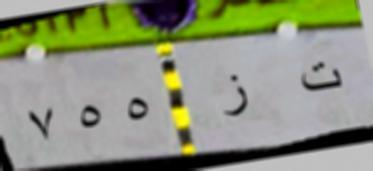5: (122, 90, 154, 138), (74, 100, 105, 136)
7: (23, 98, 62, 146)
taa: (297, 56, 344, 104)
zay: (217, 68, 252, 128)
